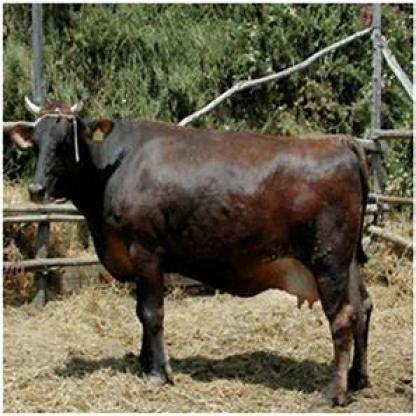cow: (7, 97, 375, 405)
